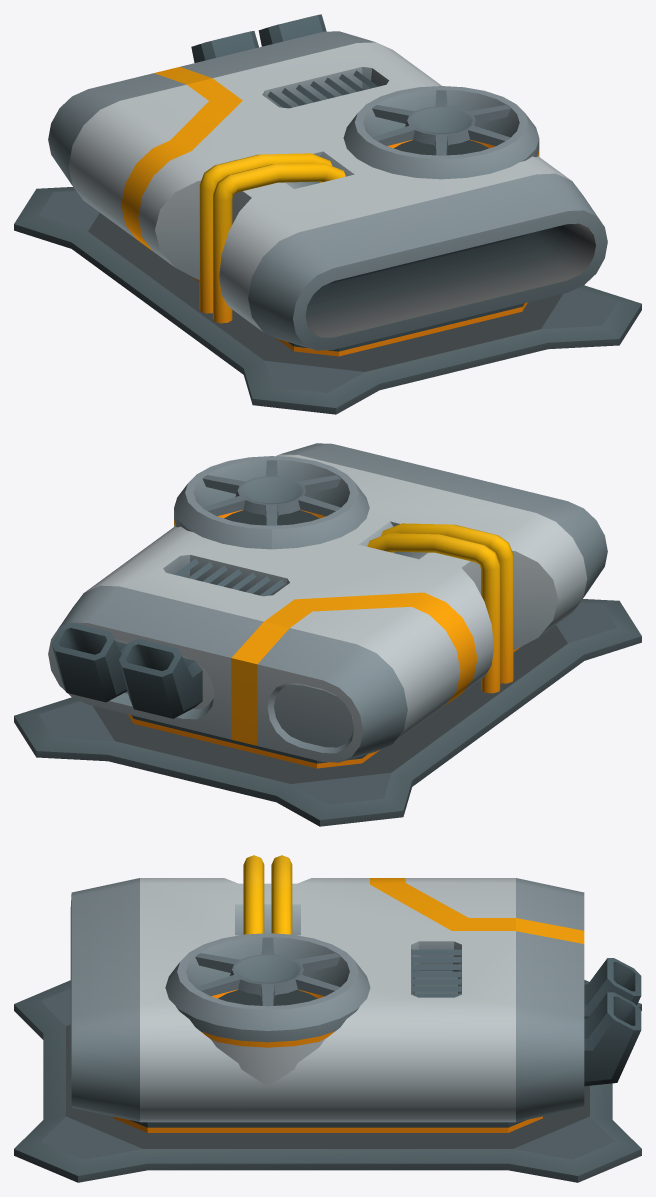
File: Generator_006.fbx
The picture shows the model from 3 angles, top to bottom: view 1: azimuth 30°, elevation 25°; view 2: azimuth 150°, elevation 25°; view 3: azimuth 270°, elevation 25°; orthographic projection. The views are drawn at different scales.
Visible parts, largest first — view 1: Generator_006; view 2: Generator_006; view 3: Generator_006.
Boxes of the visible parts, box(x1,y1,x2,y2) form: Generator_006: box(14, 14, 641, 414); Generator_006: box(14, 443, 641, 826); Generator_006: box(14, 855, 641, 1182).
Bounding box in the file's own units: 251 × 335 × 94.65.
